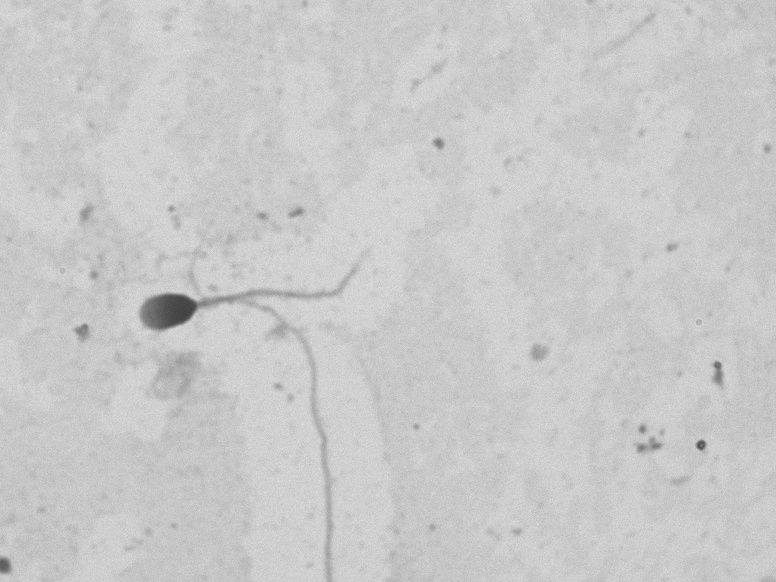Abnormal: (110, 244, 345, 351)
